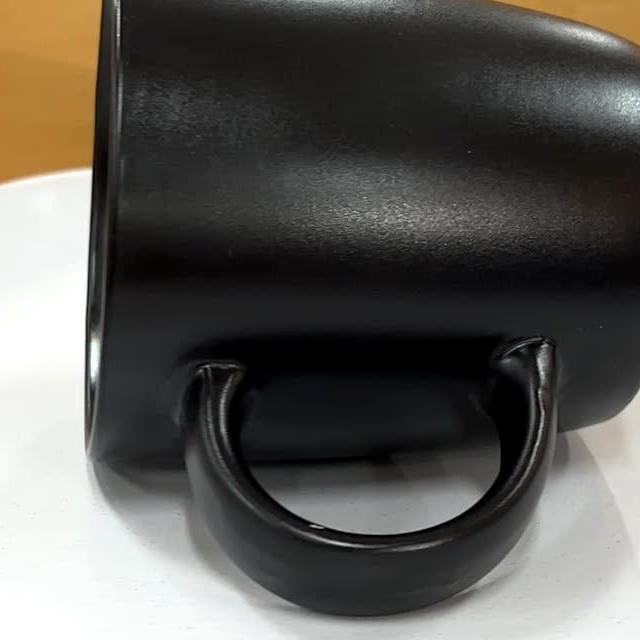cup: (87, 0, 640, 617)
